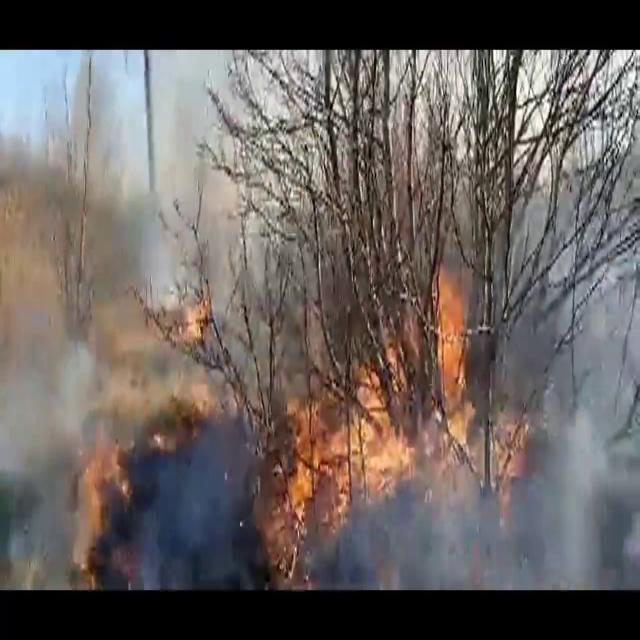Fire: (284, 270, 476, 564)
Smoke: (0, 59, 202, 578), (472, 166, 640, 584)
